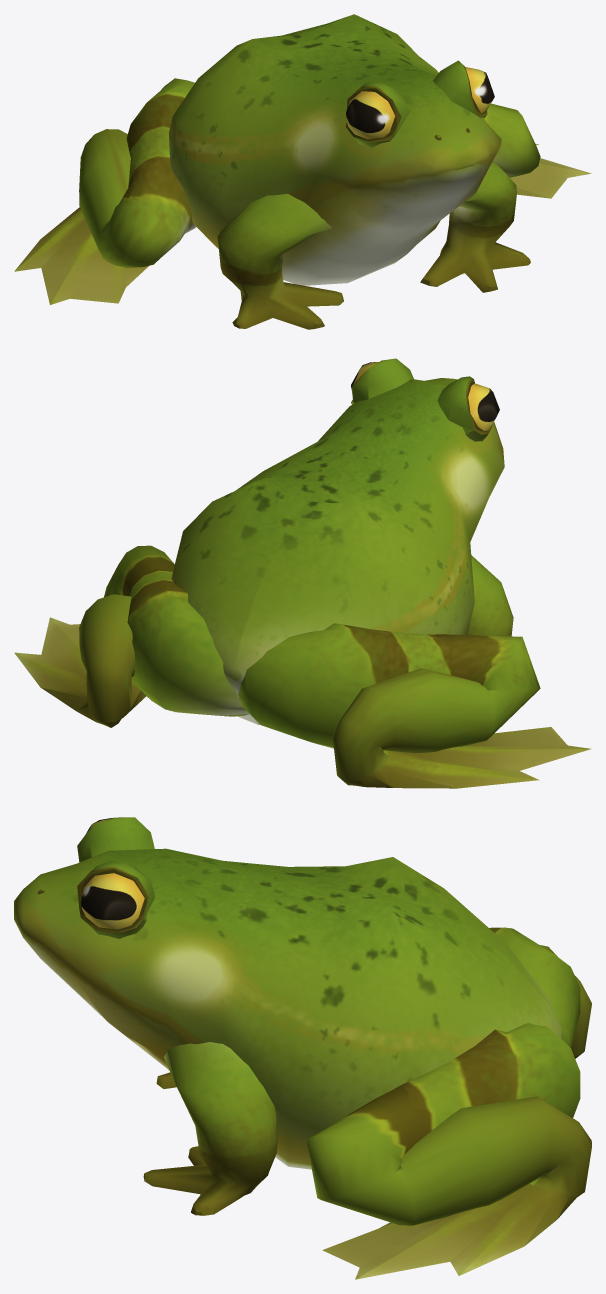
Rendered from frog.glb.
The picture shows the model from 3 angles, top to bottom: view 1: azimuth 30°, elevation 25°; view 2: azimuth 150°, elevation 25°; view 3: azimuth 270°, elevation 25°; orthographic projection. The views are drawn at different scales.
Parts seen in each view (by area): view 1: Object_7.001; view 2: Object_7.001; view 3: Object_7.001.
Part boxes in pixels (x1,y1,x2,y2): Object_7.001: (14, 14, 591, 329); Object_7.001: (14, 358, 590, 788); Object_7.001: (14, 817, 591, 1279).
Bounding box in the file's own units: 0.7496 × 0.3515 × 0.5884.
1 material, 1 textured.
